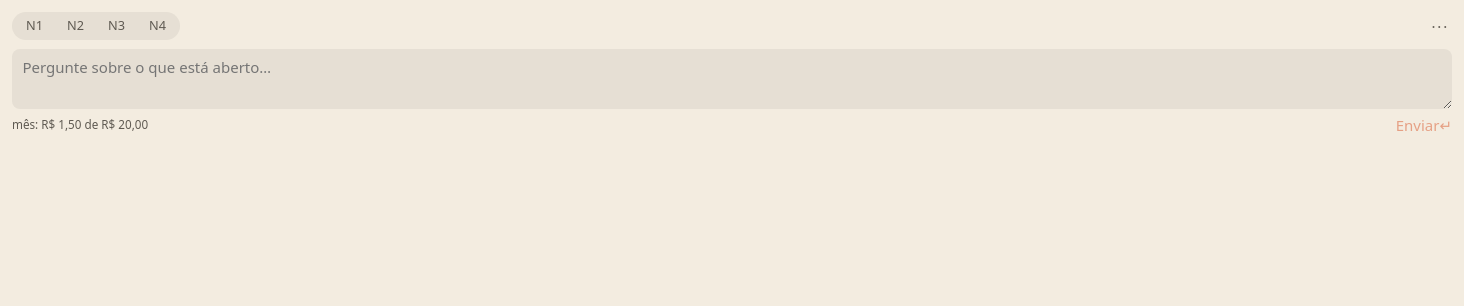
Test: pedido que falhou não empilha: o próximo atalho substitui a bolha e o aviso
What coordinates should you click on to do the following:
click the button named "N1 Dica"
I would click on:
 (34, 26)
Its box is [14,14,55,38].
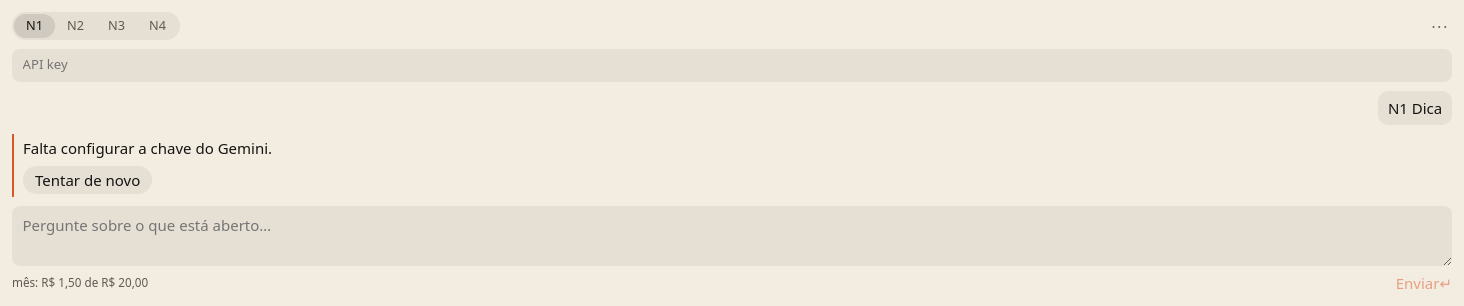
Now the text "Falta configurar a chave do Gemini." is shown, box [23,138,272,158]
What coordinates should you click on to do the following:
click the button named "N2 Caminho"
I would click on:
 (76, 26)
Its box is [55,14,96,38].
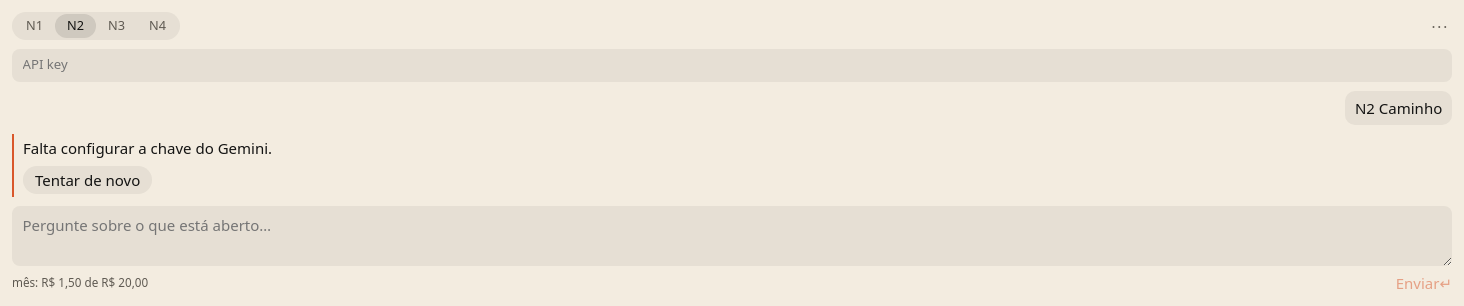
Now the text "Falta configurar a chave do Gemini." is shown once, box [23,138,272,158]
Now the text "N1 Dica" is gone
Now the text "N2 Caminho" is shown, box [1345,91,1452,125]
